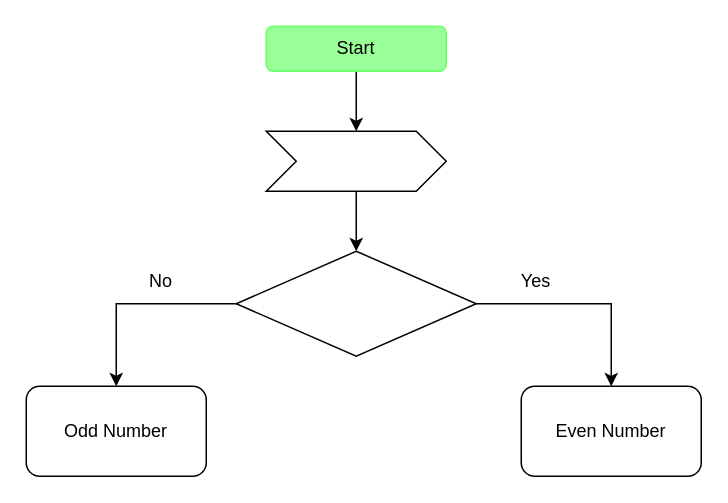
Some shapes in this 728 by 503 pixel diagram are drawn without their labels. Here are the shapes that lost their labels. From the top down, the centre of each, then its label:
At (x=355, y=160): "Ask User To Input a number".
At (x=355, y=303): "number % 2 == 0".
